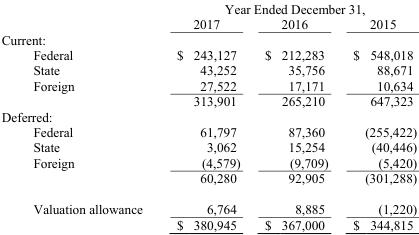table: (0, 0, 416, 231)
table column: (0, 0, 159, 231), (159, 0, 251, 231), (251, 0, 340, 231), (340, 0, 416, 231)
table column header: (0, 0, 416, 31)
table projected row header: (0, 31, 416, 47), (0, 108, 416, 123)
table row: (0, 169, 416, 193), (0, 193, 416, 216), (0, 15, 416, 31), (0, 31, 416, 47), (0, 77, 416, 93), (0, 123, 416, 139), (0, 0, 416, 15), (0, 47, 416, 62), (0, 62, 416, 77), (0, 93, 416, 108), (0, 108, 416, 123), (0, 139, 416, 154), (0, 154, 416, 169), (0, 216, 416, 231)
table spanning cell: (159, 0, 416, 15)
